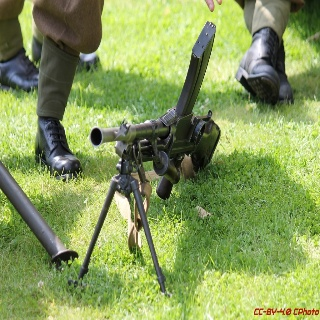rifle: (81, 21, 220, 293)
